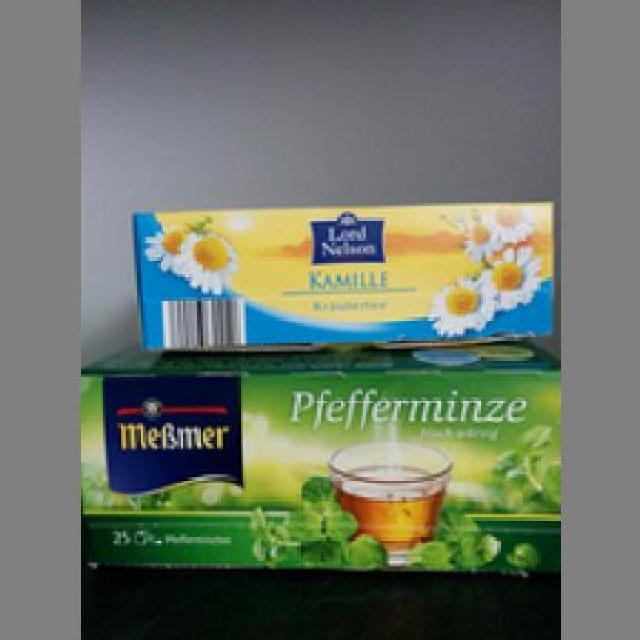Tea: (77, 352, 557, 574), (128, 195, 552, 352)
